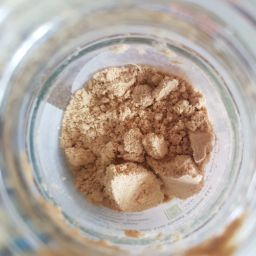Ginger powder: (52, 82, 217, 205), (76, 67, 216, 211), (84, 98, 187, 191)
